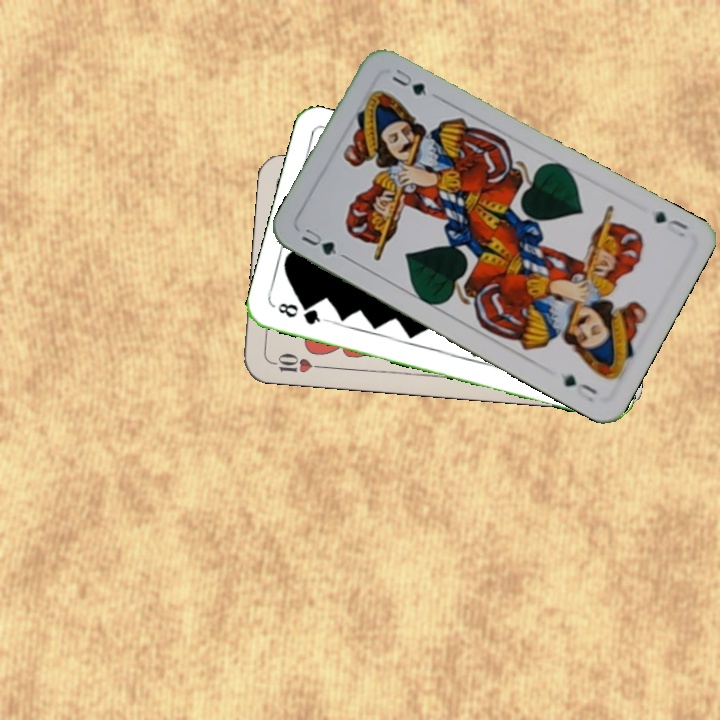G8: (274, 299, 329, 327)
GU: (297, 224, 340, 258), (650, 206, 691, 240)
H10: (267, 349, 326, 376)
